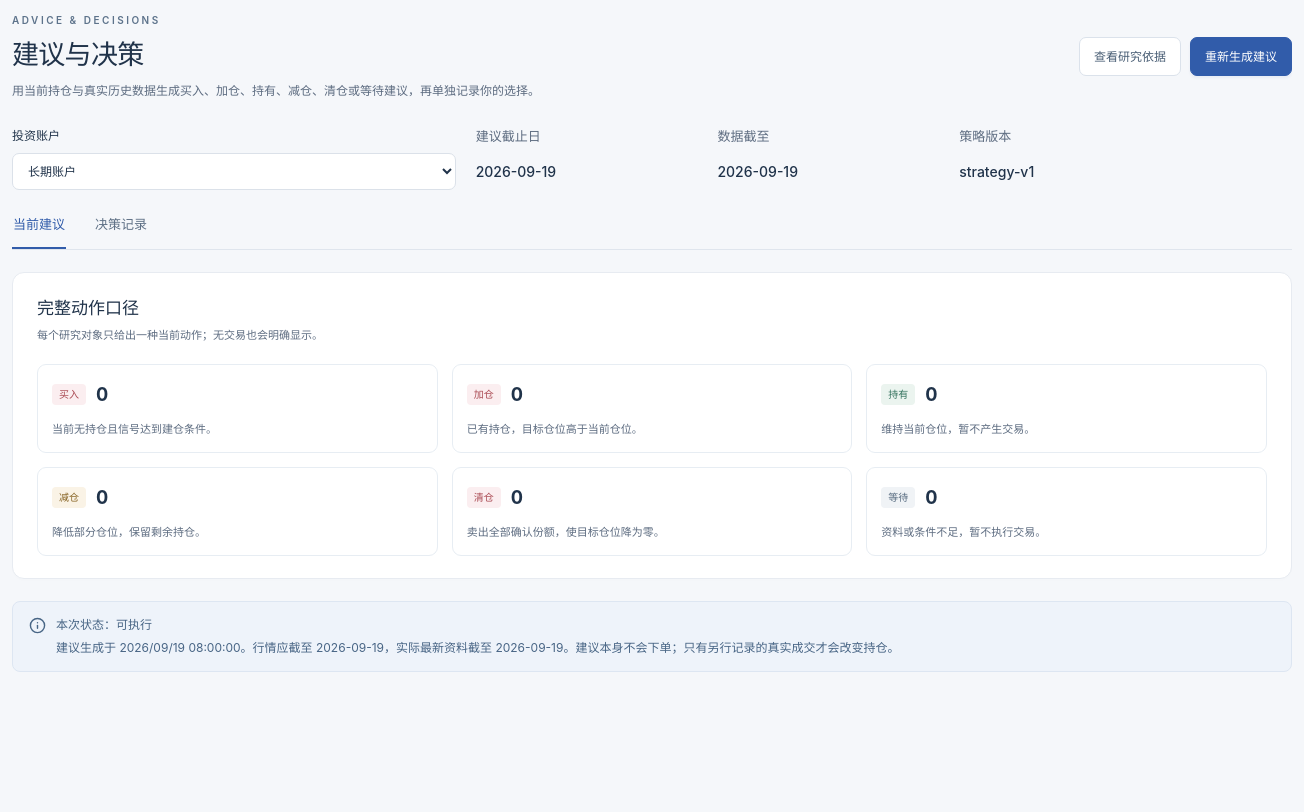
Scenario: 正式交易流程 › 决定已关联实际成交后分别展示计划与成交并隐藏重复登记入口
Click the button "决策记录".
click(121, 232)  # box [94,214,148,249]
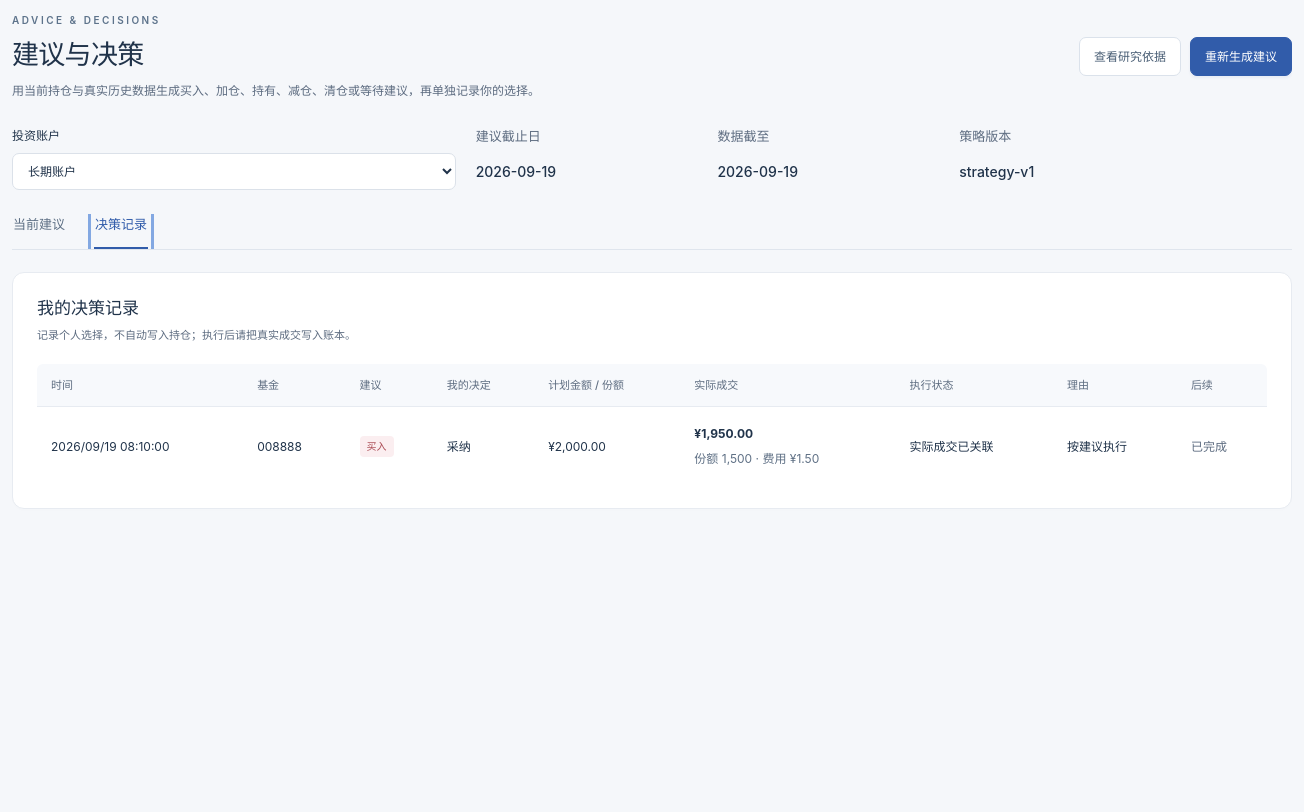
expect the text "¥2,000.00" is shown: met, box [534,406,680,486]
expect the text "¥1,950.00" is shown: met, box [694,426,753,441]
expect the text "实际成交已关联" is shown: met, box [896,406,1053,486]
